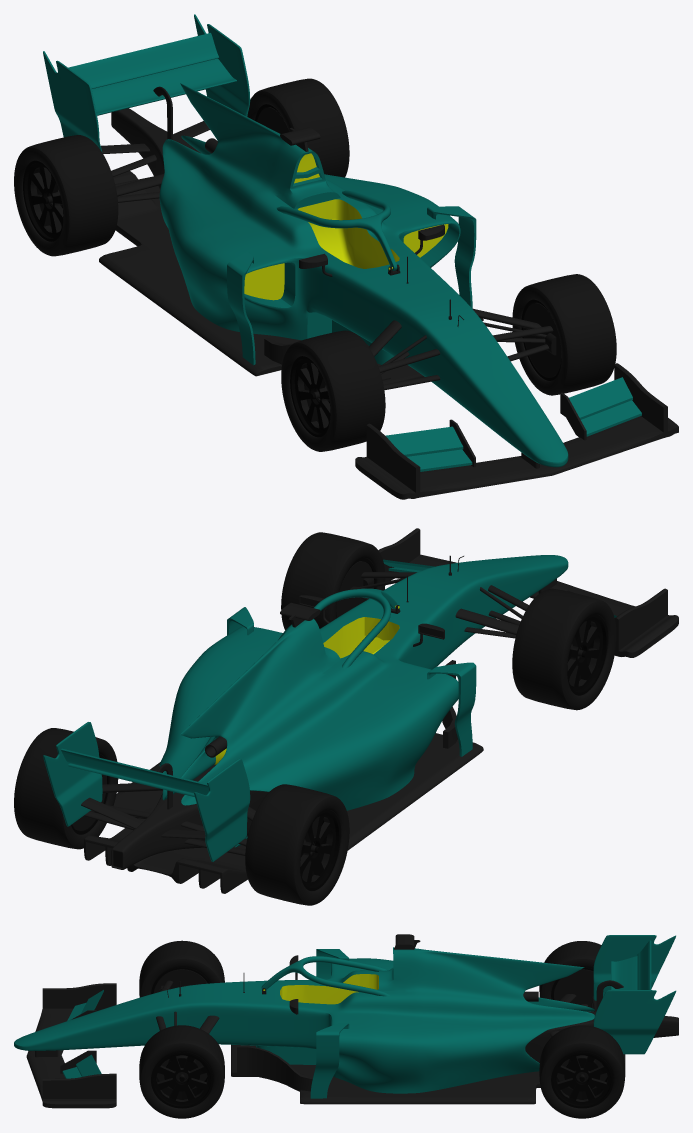
The model's file is Men_accessory_AstonMartin_5000.fbx.
The picture shows the model from 3 angles, top to bottom: view 1: azimuth 30°, elevation 25°; view 2: azimuth 150°, elevation 25°; view 3: azimuth 270°, elevation 25°; orthographic projection. The views are drawn at different scales.
Visible parts, largest first — view 1: _gltfNode_0, _gltfNode_3, _gltfNode_13, _gltfNode_16, _gltfNode_4, _gltfNode_2, _gltfNode_10, _gltfNode_1, _gltfNode_14, _gltfNode_17; view 2: _gltfNode_0, _gltfNode_3, _gltfNode_16, _gltfNode_13, _gltfNode_4, _gltfNode_17, _gltfNode_14, _gltfNode_2, _gltfNode_10; view 3: _gltfNode_0, _gltfNode_3, _gltfNode_13, _gltfNode_4, _gltfNode_16, _gltfNode_10, _gltfNode_14, _gltfNode_17, _gltfNode_2, _gltfNode_9.
Boxes of the visible parts, <box> form: _gltfNode_0: <box>43,14,641,471</box>; _gltfNode_3: <box>99,86,553,468</box>; _gltfNode_13: <box>281,274,616,451</box>; _gltfNode_16: <box>14,78,349,256</box>; _gltfNode_4: <box>355,363,678,499</box>; _gltfNode_2: <box>298,199,399,268</box>; _gltfNode_10: <box>47,107,561,401</box>; _gltfNode_1: <box>244,153,448,300</box>; _gltfNode_14: <box>290,299,561,437</box>; _gltfNode_17: <box>23,104,284,241</box>; _gltfNode_0: <box>43,555,616,861</box>; _gltfNode_3: <box>81,555,556,893</box>; _gltfNode_16: <box>14,728,349,905</box>; _gltfNode_13: <box>281,532,616,710</box>; _gltfNode_4: <box>378,528,678,657</box>; _gltfNode_17: <box>71,754,340,890</box>; _gltfNode_14: <box>336,558,607,695</box>; _gltfNode_2: <box>323,617,399,658</box>; _gltfNode_10: <box>72,561,583,855</box>; _gltfNode_0: <box>14,935,676,1098</box>; _gltfNode_3: <box>35,934,678,1104</box>; _gltfNode_13: <box>139,940,224,1118</box>; _gltfNode_4: <box>26,983,116,1108</box>; _gltfNode_16: <box>539,941,625,1118</box>; _gltfNode_10: <box>153,969,607,1089</box>; _gltfNode_14: <box>151,967,213,1108</box>; _gltfNode_17: <box>551,967,613,1108</box>; _gltfNode_2: <box>280,974,378,1004</box>; _gltfNode_9: <box>164,1058,600,1091</box>.
Size of the model in its own units: 170 by 99.25 by 463.
